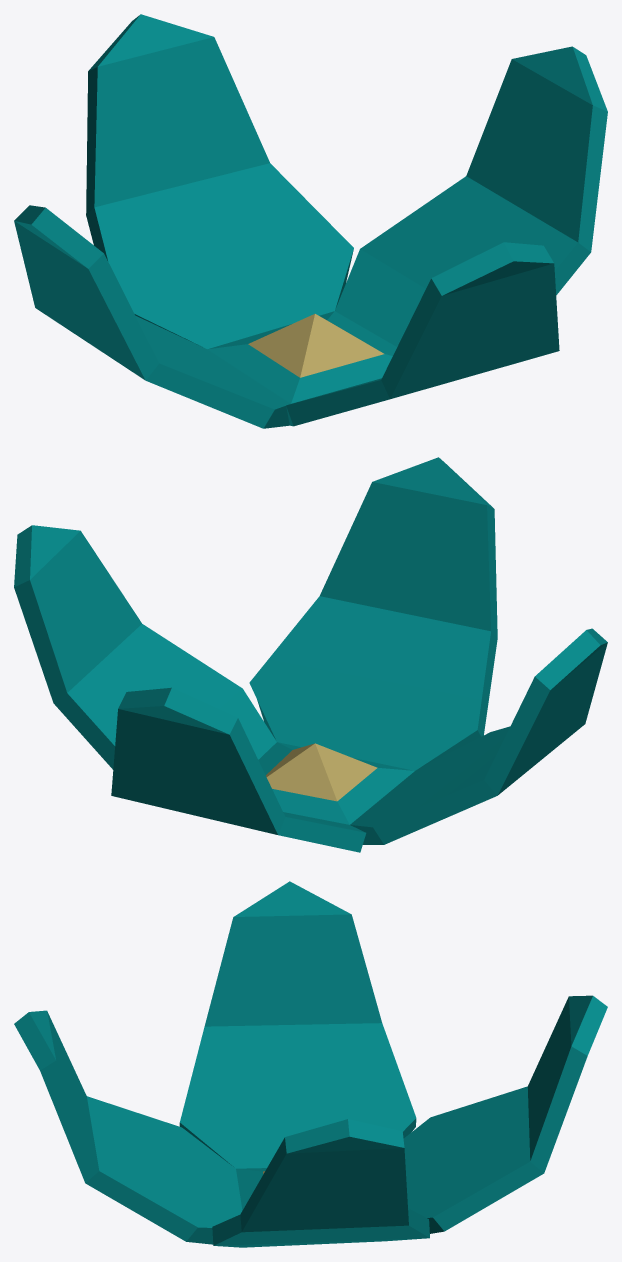
The model's file is Flowers_Crop.glb.
3 views of the same model, one above another, from view 1: azimuth 30°, elevation 25°; view 2: azimuth 150°, elevation 25°; view 3: azimuth 270°, elevation 25° (orthographic). The views are drawn at different scales.
Visible parts, largest first — view 1: Flowers_Crop; view 2: Flowers_Crop; view 3: Flowers_Crop.
Boxes of the visible parts, bbox=[...] form: Flowers_Crop: bbox=[14, 14, 607, 428]; Flowers_Crop: bbox=[14, 457, 607, 852]; Flowers_Crop: bbox=[14, 881, 607, 1247].
Bounding box in the file's own units: 0.2918 × 0.1162 × 0.2926.
